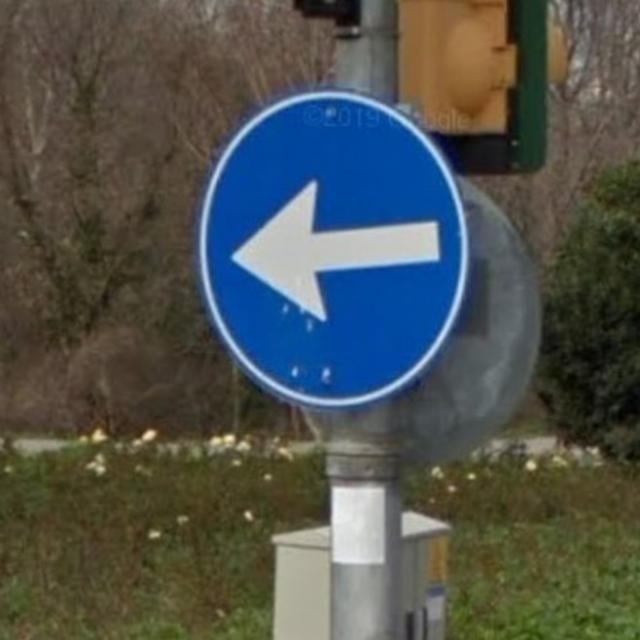Turn Left: (192, 84, 473, 421)
